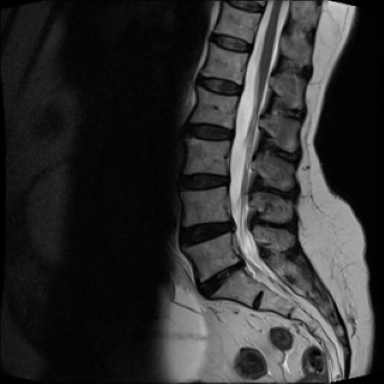Lumbar Disc Bulge (LDB): (191, 256, 248, 305), (177, 213, 240, 252)
Normal IVD: (175, 167, 236, 197), (185, 73, 247, 99), (182, 117, 238, 145), (206, 28, 256, 57)
Spinal Stenosis (SS): (230, 254, 247, 275), (224, 214, 238, 236)
